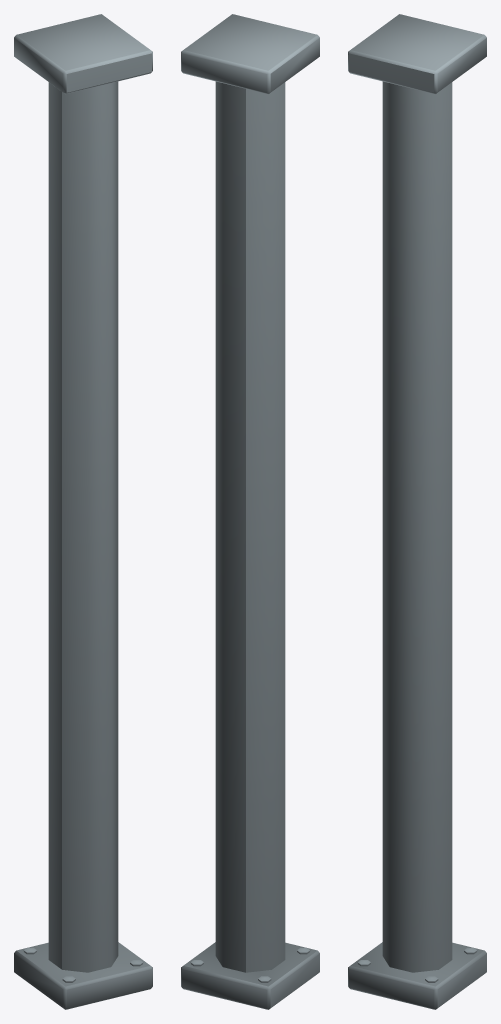
File: pillar_1x1x8.glb
3 renders of one model, left to right at view 1: azimuth 30°, elevation 25°; view 2: azimuth 150°, elevation 25°; view 3: azimuth 330°, elevation 25°, orthographic.
Parts seen in each view (by area): view 1: pillar_1x1x8; view 2: pillar_1x1x8; view 3: pillar_1x1x8.
Part boxes in pixels (bbox=[...]): pillar_1x1x8: bbox=[14, 14, 152, 1009]; pillar_1x1x8: bbox=[181, 14, 319, 1009]; pillar_1x1x8: bbox=[348, 14, 486, 1009].
Size of the model in its own units: 0.8 by 8 by 0.8.
1 material, 1 textured.
